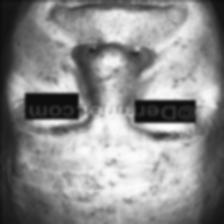Non-Cancerous Skin Condition: (14, 144, 169, 218), (15, 36, 206, 92)
